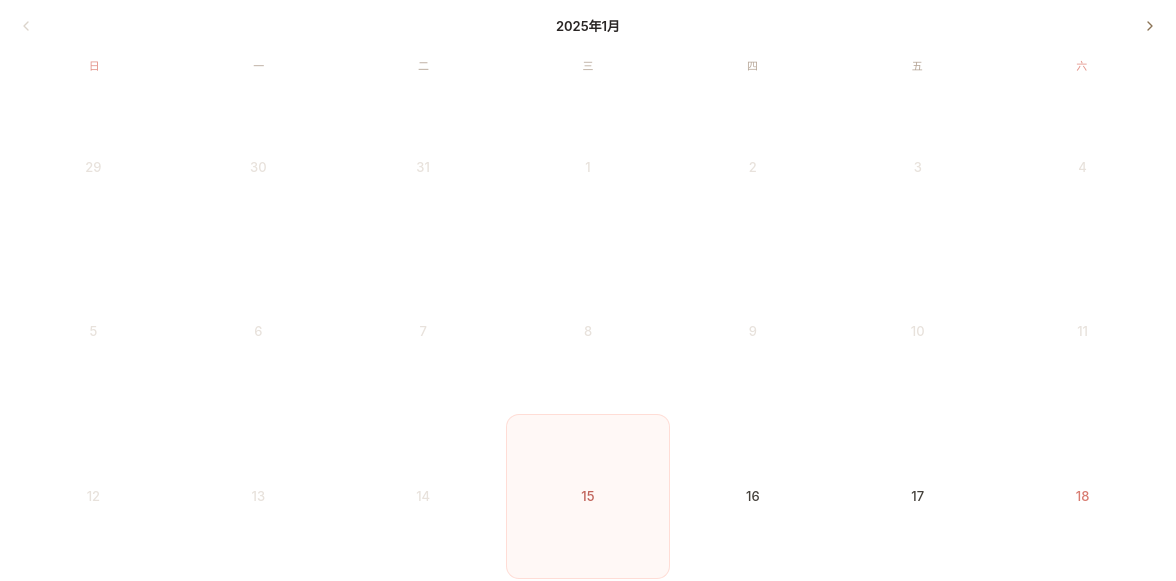
Test: MiniCalendar › 月份导航 › 非当前月可以点击上个月按钮
This screenshot has width=1176, height=581.
//  先切换到下个月
What coordinates should you click on to do the following:
click the button named "下个月"
I would click on:
 (1150, 26)
Its box is [1136,12,1164,40].
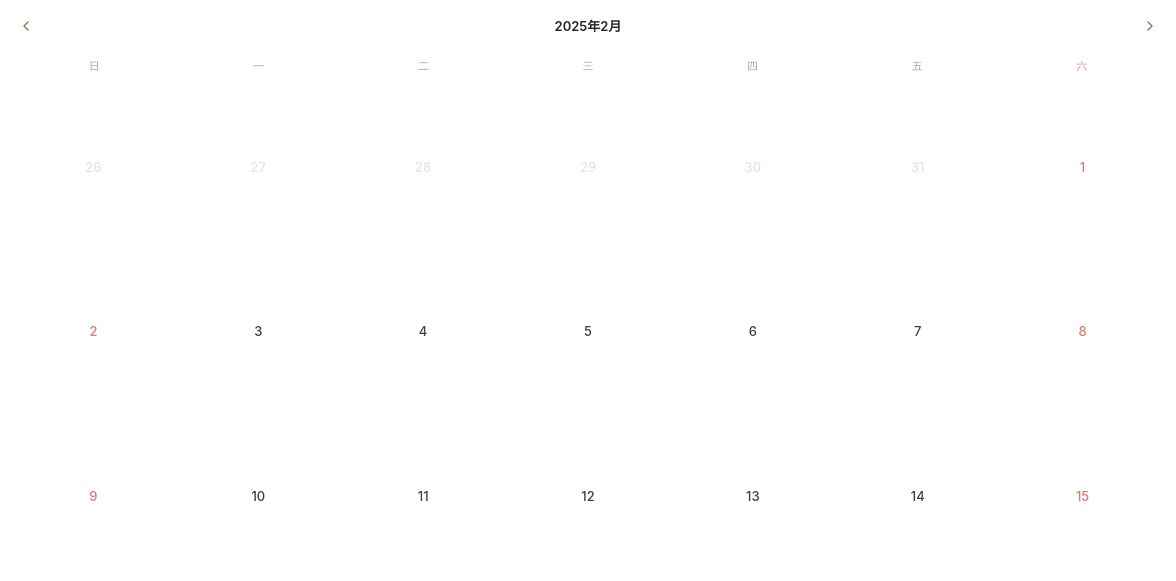
Now the heading "2025年2月" is shown, box [555,16,621,36]
What coordinates should you click on to do the following:
click the button named "上个月"
I would click on:
 (26, 26)
Its box is [12,12,40,40].
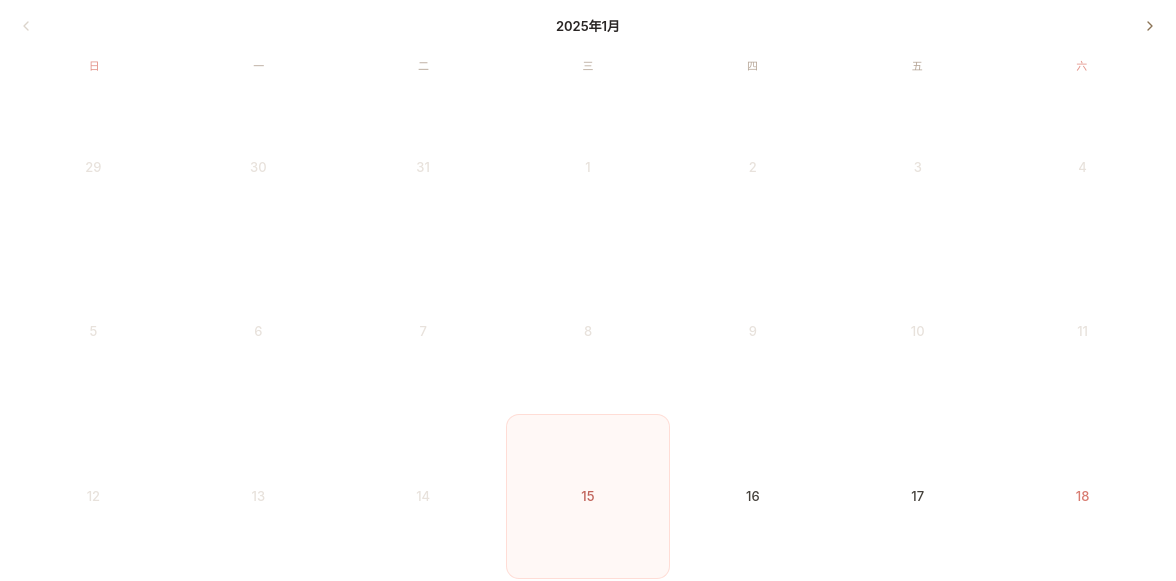
Now the heading "2025年1月" is shown, box [556,16,620,36]
